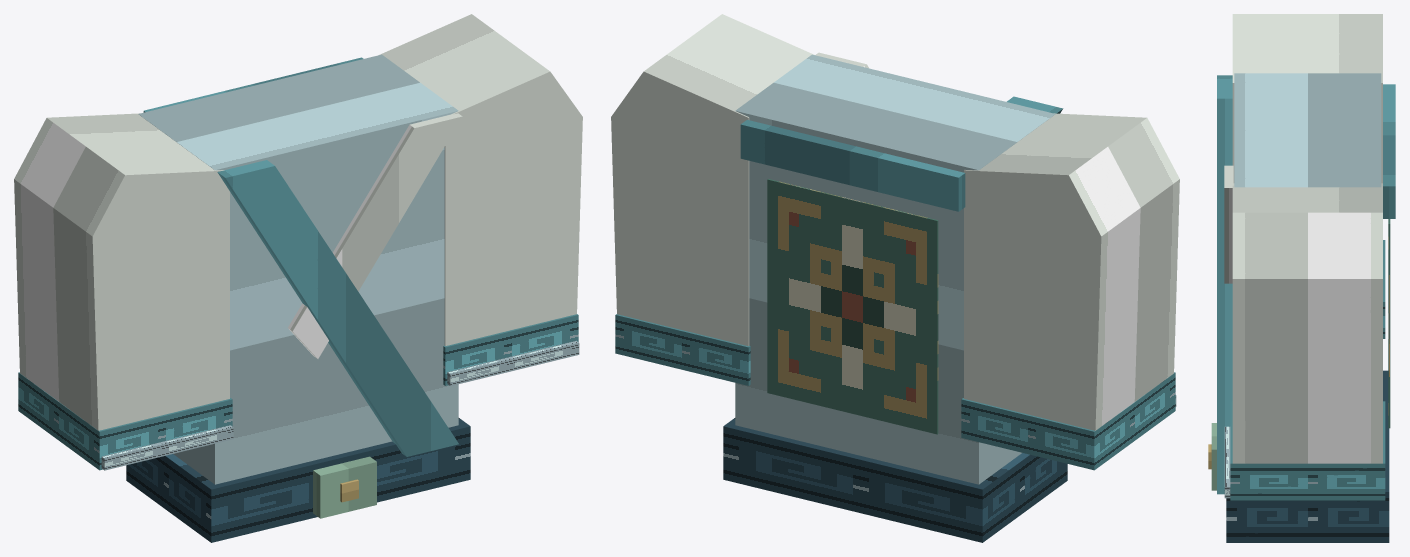
Rendered from zhuji_baiqing_lingyun_chestplate.obj.
3 renders of one model, left to right at view 1: azimuth 30°, elevation 25°; view 2: azimuth 150°, elevation 25°; view 3: azimuth 270°, elevation 25°, orthographic. The views are drawn at different scales.
Parts seen in each view (by area): view 1: cloud_body, cloud_sleeve_-1, cloud_sleeve_1, cloud_outer_lapel, cloud_belt, cloud_inner_lapel, cloud_cuff_-1, cloud_cuff_1, cloud_buckle, cloud_cuff_seam_-1, cloud_cuff_seam_1; view 2: cloud_sleeve_-1, cloud_body, cloud_sleeve_1, orn_back, cloud_belt, cloud_back_collar, cloud_cuff_-1, cloud_cuff_1; view 3: cloud_sleeve_1, cloud_body, cloud_sleeve_-1, cloud_belt, cloud_cuff_1, cloud_outer_lapel, cloud_back_collar, cloud_inner_lapel, orn_back, cloud_cuff_seam_1, cloud_buckle, cloud_cuff_-1.
Part boxes in pixels (x1,y1,x2,y2): cloud_body: (138, 54, 458, 484); cloud_sleeve_-1: (14, 113, 229, 430); cloud_sleeve_1: (379, 14, 582, 345); cloud_outer_lapel: (217, 160, 458, 456); cloud_belt: (126, 418, 470, 542); cloud_inner_lapel: (288, 113, 462, 358); cloud_cuff_-1: (18, 372, 232, 470); cloud_cuff_1: (443, 314, 578, 385); cloud_buckle: (313, 456, 376, 518); cloud_cuff_seam_-1: (101, 425, 233, 470); cloud_cuff_seam_1: (447, 340, 579, 385); cloud_sleeve_-1: (964, 113, 1179, 430); cloud_body: (735, 54, 1055, 484); cloud_sleeve_1: (611, 14, 814, 345); orn_back: (767, 179, 938, 434); cloud_belt: (723, 418, 1067, 542); cloud_back_collar: (740, 119, 965, 211); cloud_cuff_-1: (961, 372, 1175, 470); cloud_cuff_1: (615, 314, 750, 385); cloud_sleeve_1: (1232, 183, 1382, 463); cloud_body: (1234, 73, 1381, 187); cloud_sleeve_-1: (1232, 14, 1382, 183); cloud_belt: (1226, 370, 1389, 542); cloud_cuff_1: (1230, 401, 1385, 500); cloud_outer_lapel: (1217, 75, 1232, 494); cloud_back_collar: (1383, 84, 1395, 218); cloud_inner_lapel: (1224, 165, 1233, 283); orn_back: (1388, 219, 1390, 428); cloud_cuff_seam_1: (1224, 426, 1230, 498); cloud_buckle: (1211, 423, 1216, 490); cloud_cuff_-1: (1383, 240, 1385, 338).
Bounding box in the file's own units: 1.08 × 0.8125 × 0.3734.
